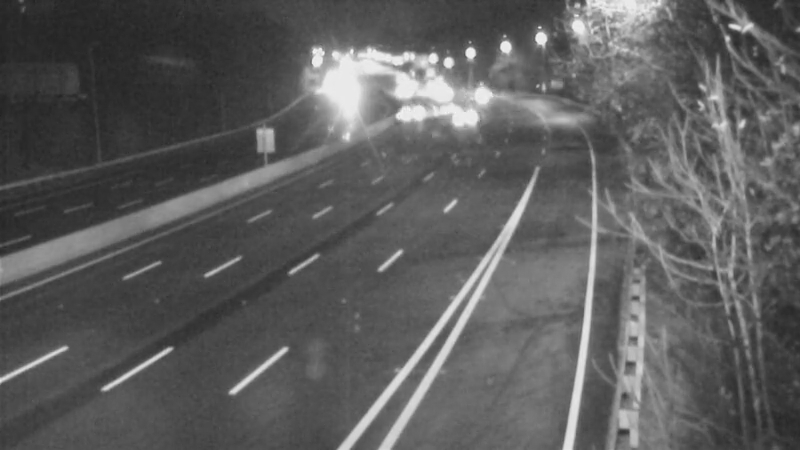vehicle: (380, 66, 430, 116), (465, 70, 515, 120), (415, 84, 465, 134), (444, 86, 494, 136), (380, 89, 430, 139)
